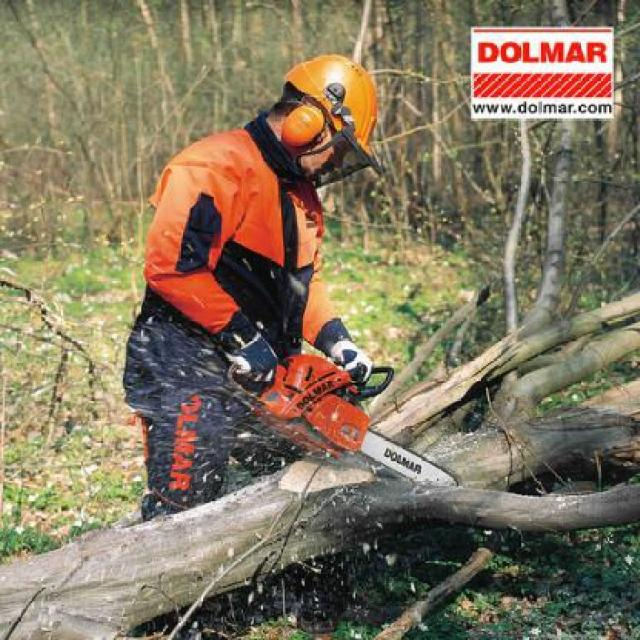Chainsaw: (228, 349, 464, 494)
